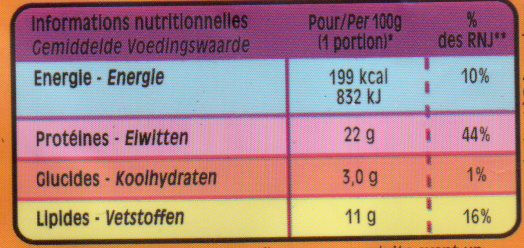column: (32, 11, 250, 237), (309, 9, 403, 232), (439, 8, 506, 235)
table: (10, 1, 520, 244)
